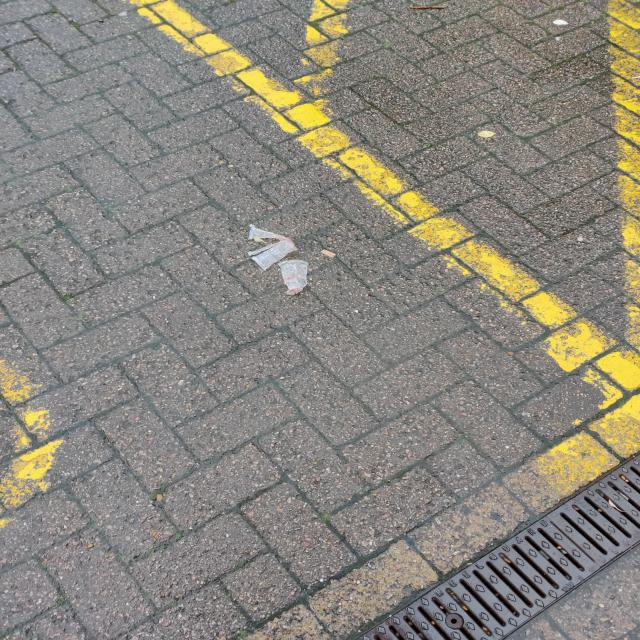litter: (246, 224, 299, 270), (278, 260, 309, 295), (320, 250, 336, 258)
